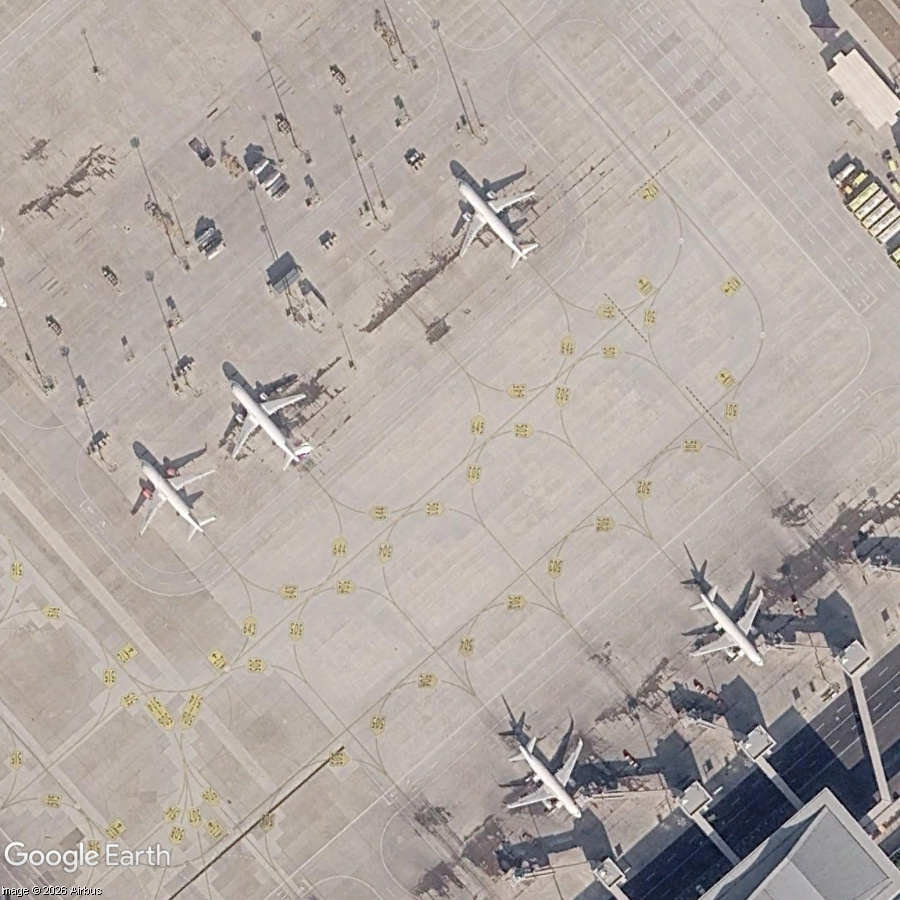Máy bay dân dụng: (191, 347, 339, 496), (418, 146, 565, 293), (479, 708, 623, 853), (659, 556, 803, 700), (100, 426, 242, 568)
